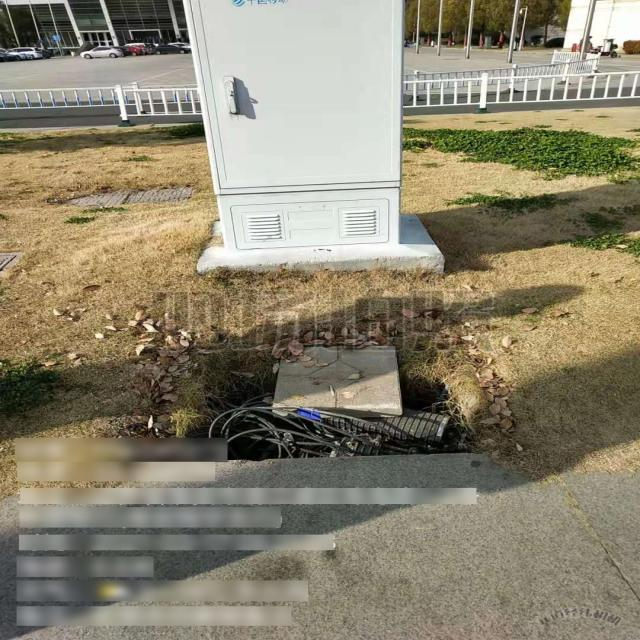Uncovered: (136, 334, 490, 463)
